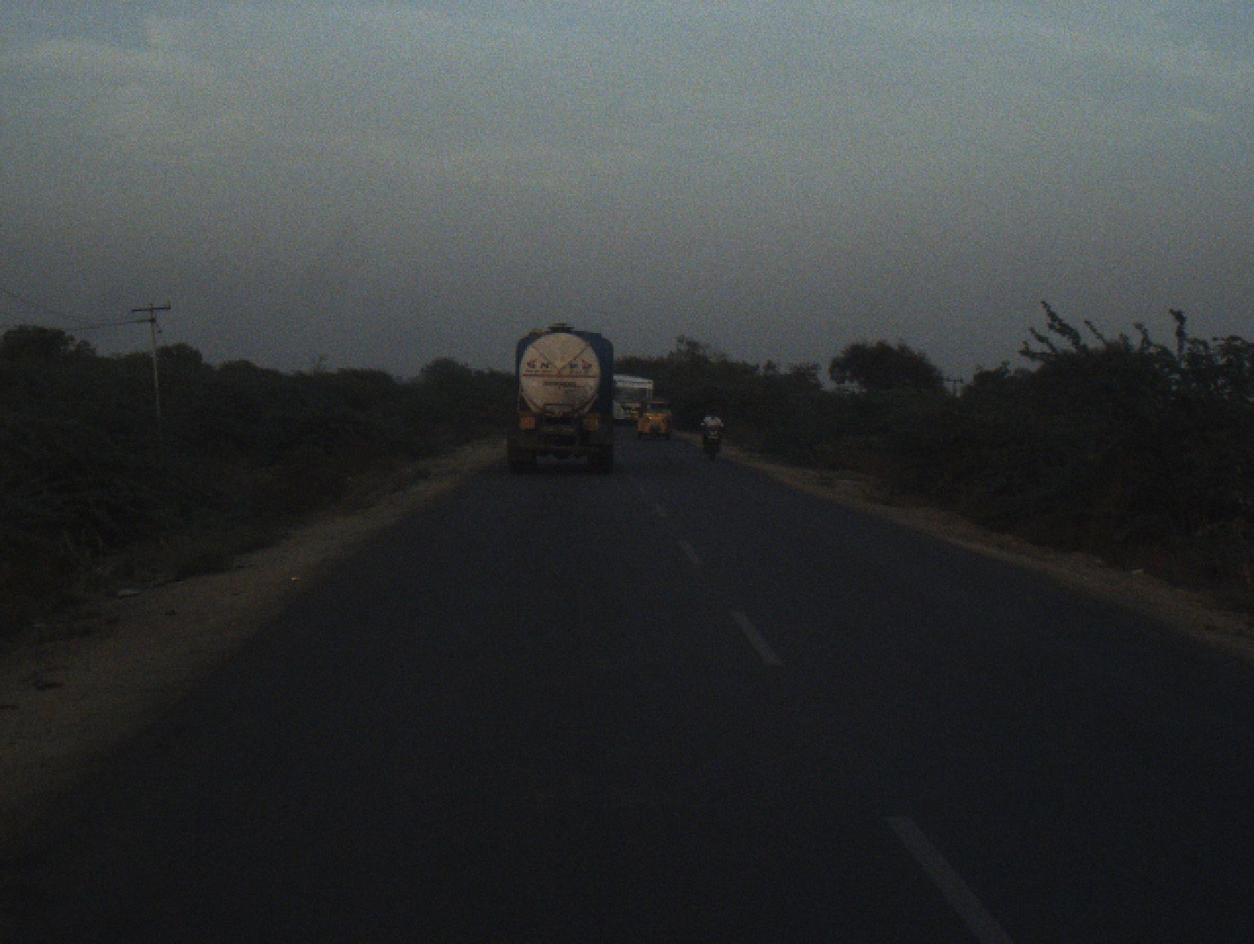autorickshaw: (641, 395, 676, 446)
bus: (615, 374, 654, 424)
motorcycle: (698, 416, 728, 470)
rider: (696, 407, 728, 454)
truck: (499, 320, 617, 477)
